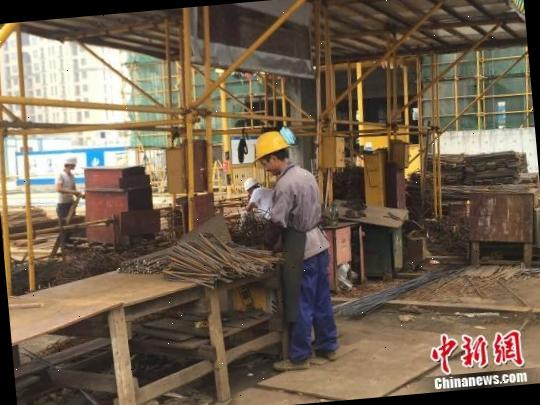helmet: (250, 127, 293, 160), (62, 153, 79, 170), (241, 176, 258, 188)
